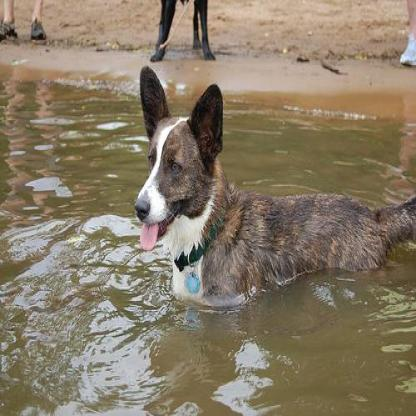Cardigan: (133, 63, 414, 324)
